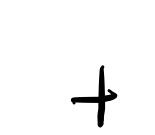plus: (71, 65, 117, 127)
